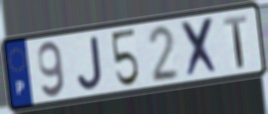2: (146, 24, 181, 85)
5: (109, 26, 140, 89)
9: (36, 39, 67, 100)
J: (76, 34, 105, 92)
T: (221, 13, 249, 70)
X: (179, 15, 221, 80)
